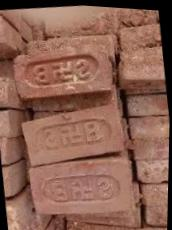brick: (17, 94, 129, 173), (29, 154, 138, 223), (12, 41, 116, 104)
